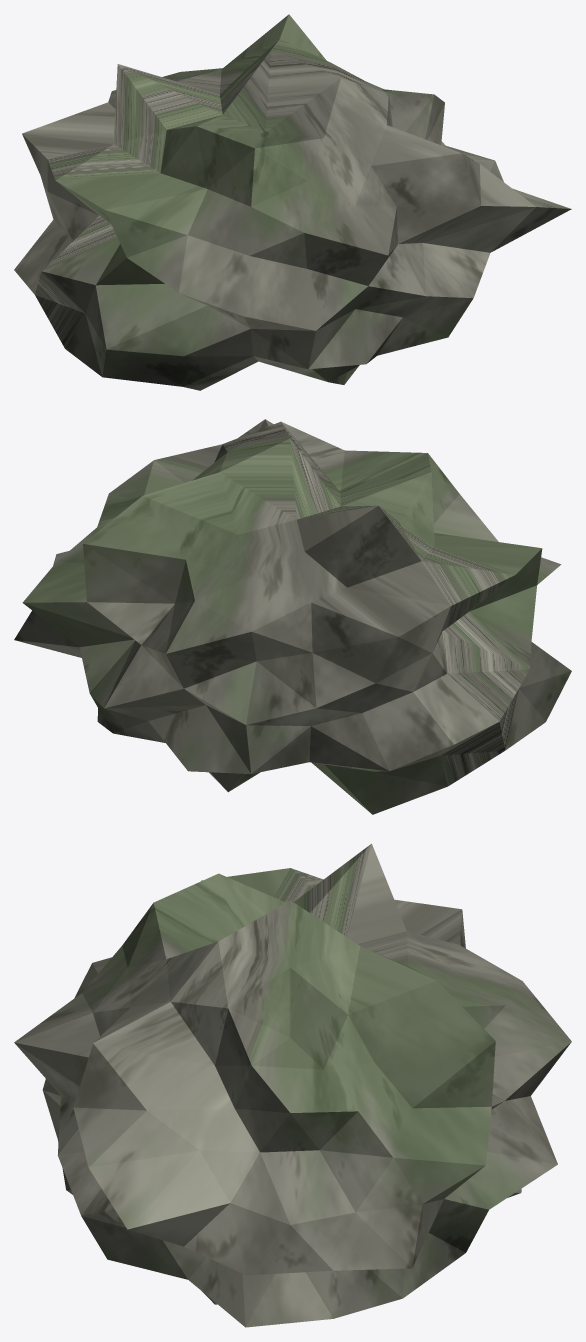
Rendered from boulder.glb.
The picture shows the model from 3 angles, top to bottom: view 1: azimuth 30°, elevation 25°; view 2: azimuth 150°, elevation 25°; view 3: azimuth 270°, elevation 25°; orthographic projection. The views are drawn at different scales.
Visible parts, largest first — view 1: fractured limestone boulder; view 2: fractured limestone boulder; view 3: fractured limestone boulder.
Boxes of the visible parts, x1=… form: fractured limestone boulder: x1=14, y1=14, x2=571, y2=390; fractured limestone boulder: x1=14, y1=419, x2=571, y2=814; fractured limestone boulder: x1=14, y1=843, x2=571, y2=1327.
Size of the model in its own units: 2.26 by 1.51 by 2.
Materials: 1 (1 with a texture image).
